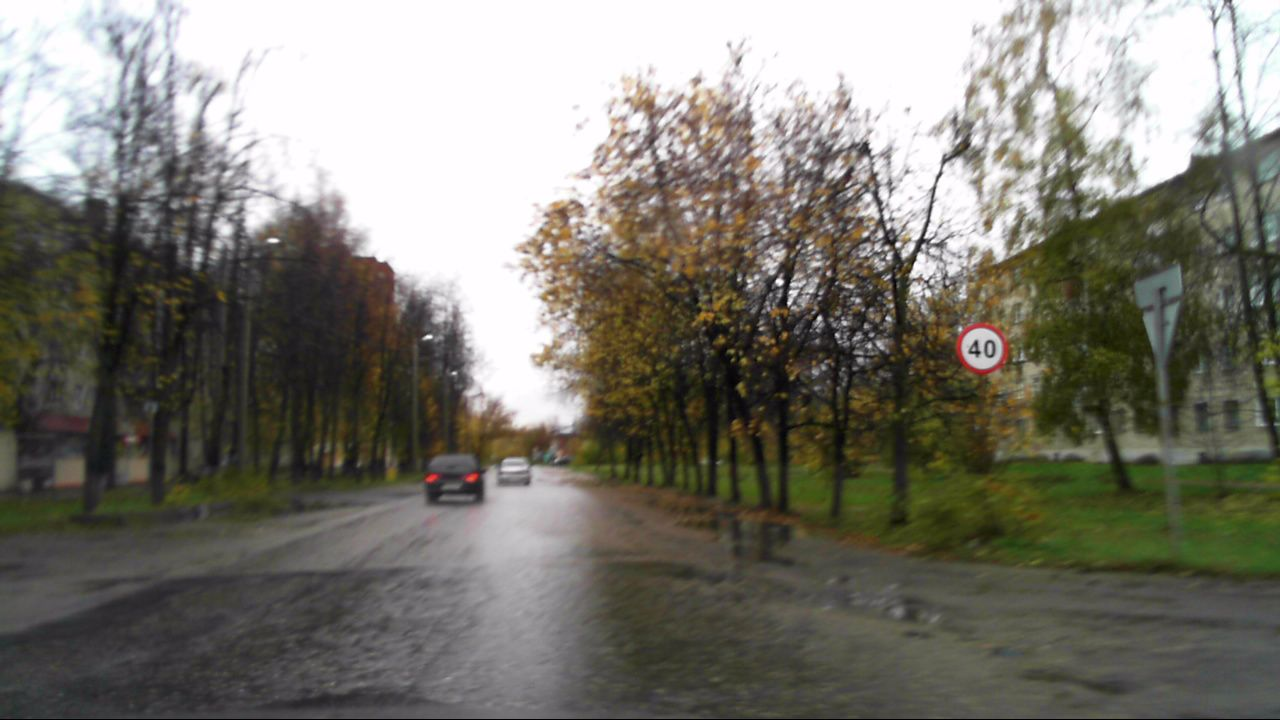speed_warning_40: (956, 325, 1005, 375)
